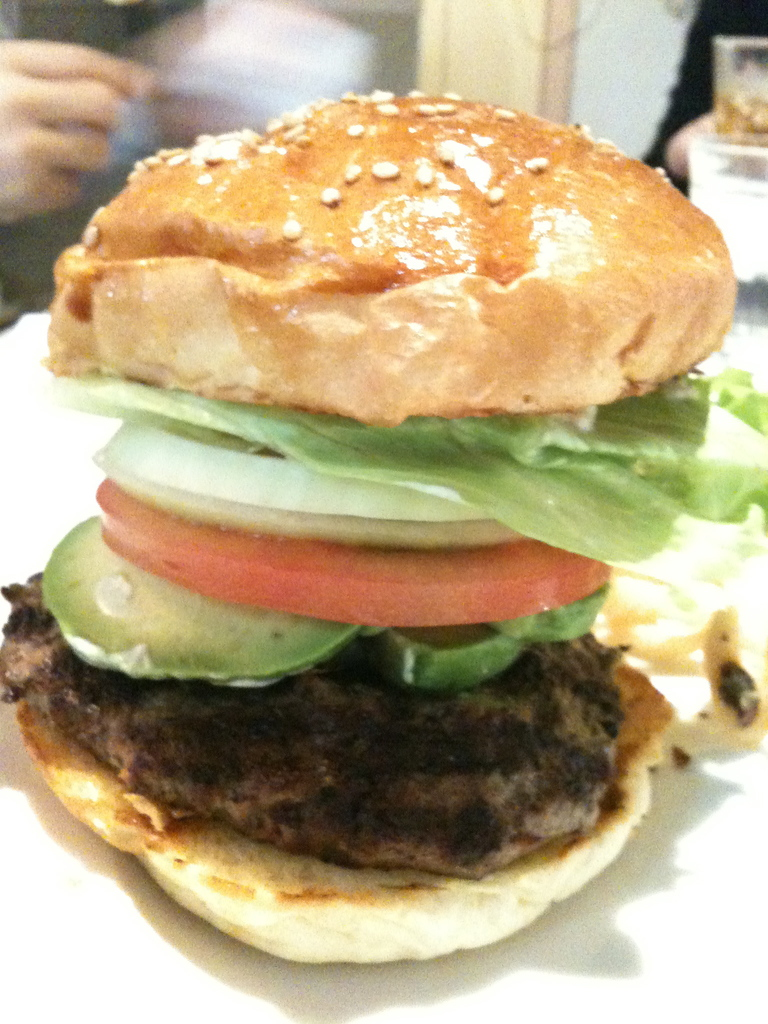Hamburger: (0, 87, 767, 967)
